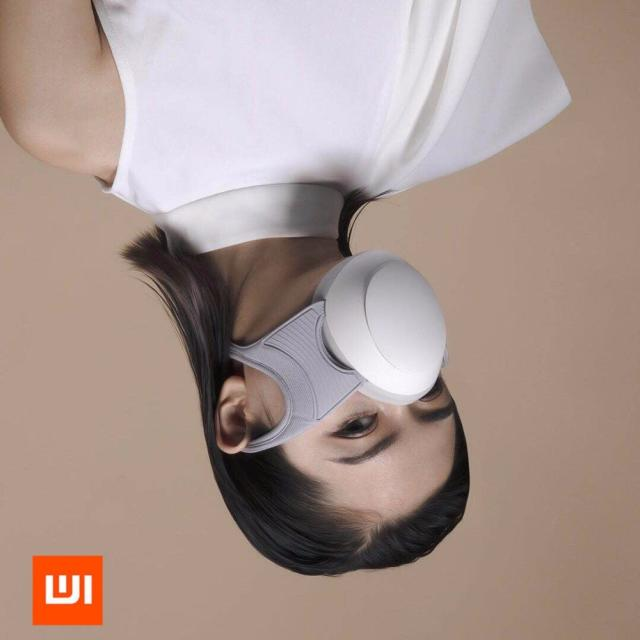Mask: (203, 223, 473, 459)
